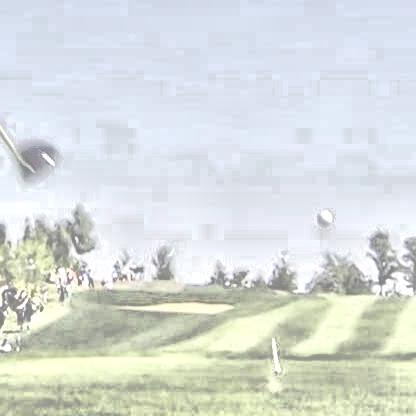golfball: (315, 206, 331, 224)
